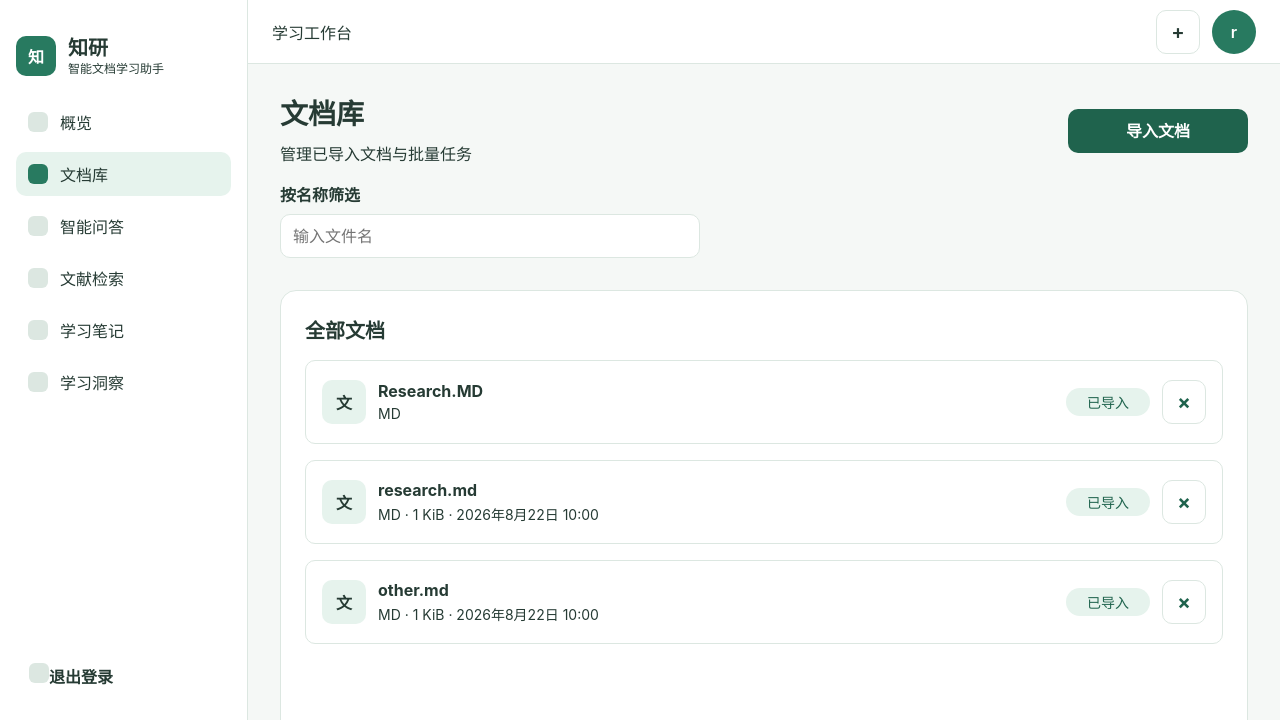
Test case: DocumentsPage › filters case-insensitively, preserves server order and duplicate IDs
Check: the text "Research.MD" is shown 2 times, box [378, 381, 483, 401]; [378, 480, 477, 500]
Check: the list item "文 Research.MD MD 已导入 ×" does not show "0 B", box [305, 360, 1223, 444]
Type "RESEARCH" into the search field labelled "按名称筛选" at (490, 236), box [280, 214, 700, 258]
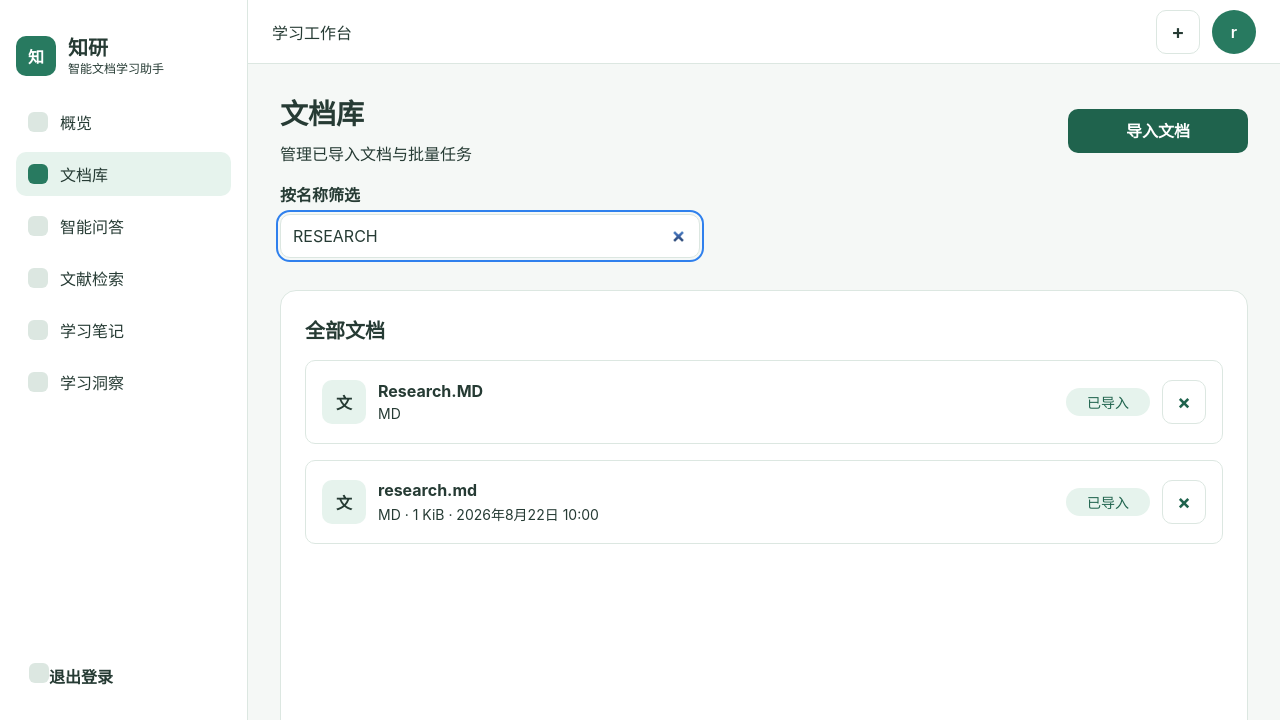
Check: the number of list items is 2, box [305, 360, 1223, 444]; [305, 460, 1223, 544]
